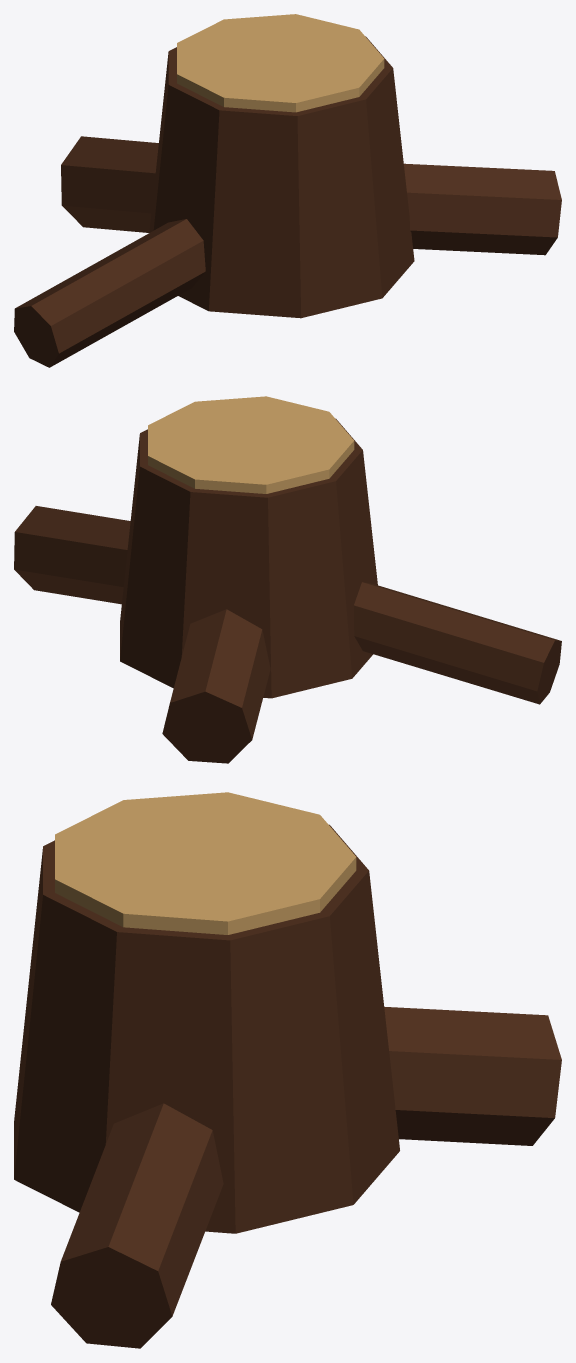
The model's file is stump_c.glb.
The picture shows the model from 3 angles, top to bottom: view 1: azimuth 30°, elevation 25°; view 2: azimuth 150°, elevation 25°; view 3: azimuth 270°, elevation 25°; orthographic projection. The views are drawn at different scales.
Parts seen in each view (by area): view 1: Stump.002, Cut.002, Root_3.016, Root_1.016, Root_2.016; view 2: Stump.002, Cut.002, Root_3.016, Root_2.016, Root_1.016; view 3: Stump.002, Cut.002, Root_1.016, Root_2.016.
Part boxes in pixels (x1,y1,x2,y2): Stump.002: (149, 36, 414, 318); Cut.002: (177, 14, 384, 112); Root_3.016: (14, 219, 205, 367); Root_1.016: (404, 163, 561, 255); Root_2.016: (61, 136, 158, 232); Stump.002: (120, 418, 377, 698); Cut.002: (148, 396, 354, 493); Root_3.016: (354, 582, 561, 704); Root_2.016: (162, 609, 270, 763); Root_1.016: (14, 506, 130, 604); Stump.002: (14, 824, 399, 1233); Cut.002: (55, 792, 356, 934); Root_1.016: (51, 1103, 223, 1348); Root_2.016: (384, 1007, 561, 1145).
Bounding box in the file's own units: 1.92 × 0.7828 × 1.19.
